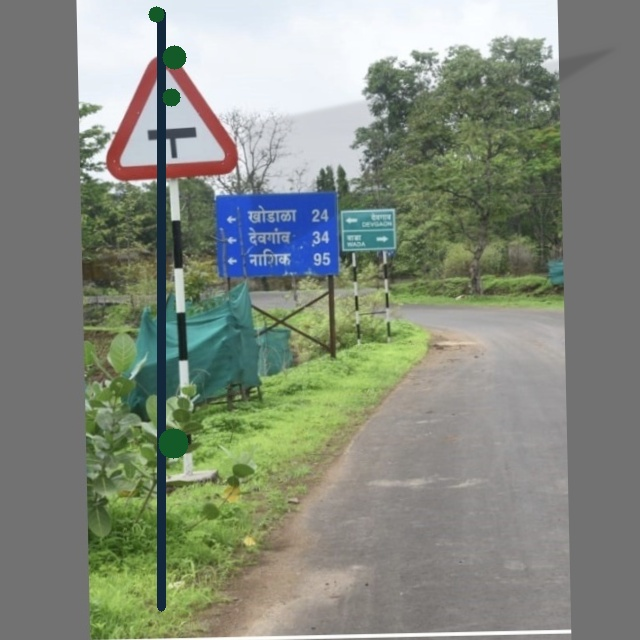T_Intersection: (103, 42, 246, 190)
